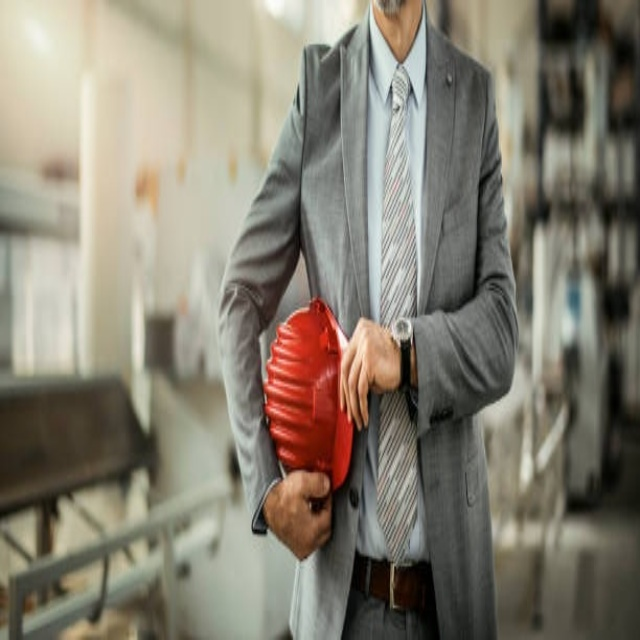Sin_guantes: (338, 315, 402, 426), (267, 468, 336, 559)
